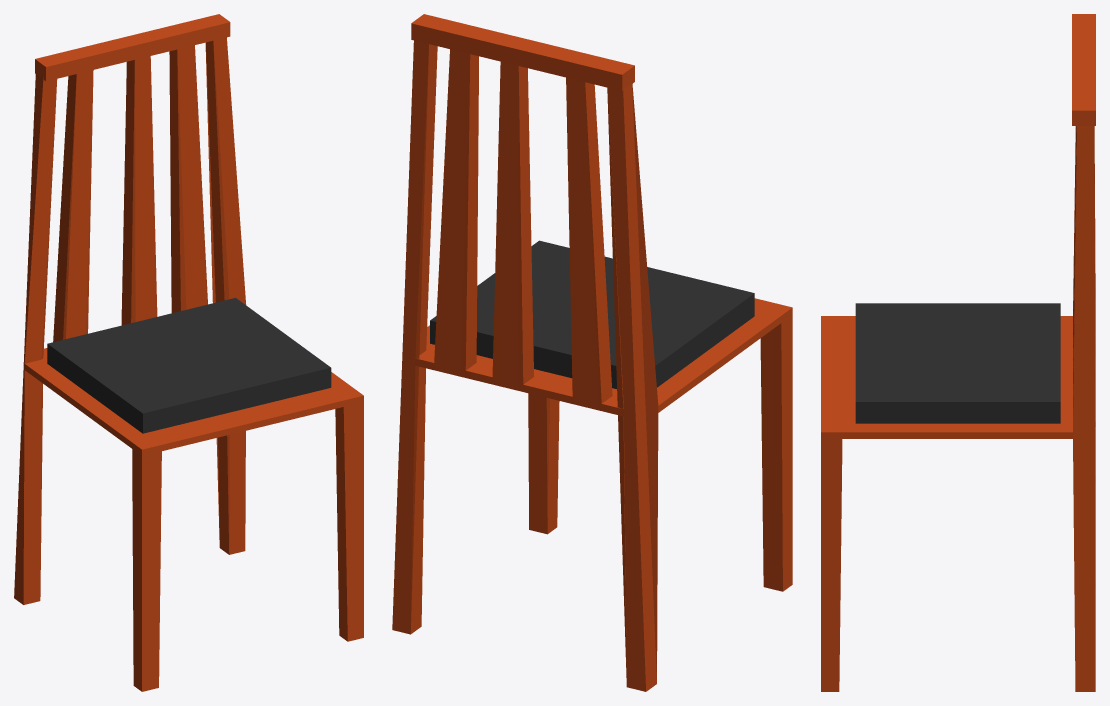
Rendered from chair.dae.
The picture shows the model from 3 angles, left to right: view 1: azimuth 30°, elevation 25°; view 2: azimuth 150°, elevation 25°; view 3: azimuth 270°, elevation 25°; orthographic projection. The views are drawn at different scales.
Visible parts, largest first — view 1: Cube; view 2: Cube; view 3: Cube.
Boxes of the visible parts, x1,y1,x2,y2 form: Cube: (14, 14, 363, 691); Cube: (392, 14, 792, 691); Cube: (821, 14, 1095, 691).
Bounding box in the file's own units: 21.66 × 49.84 × 21.66.
